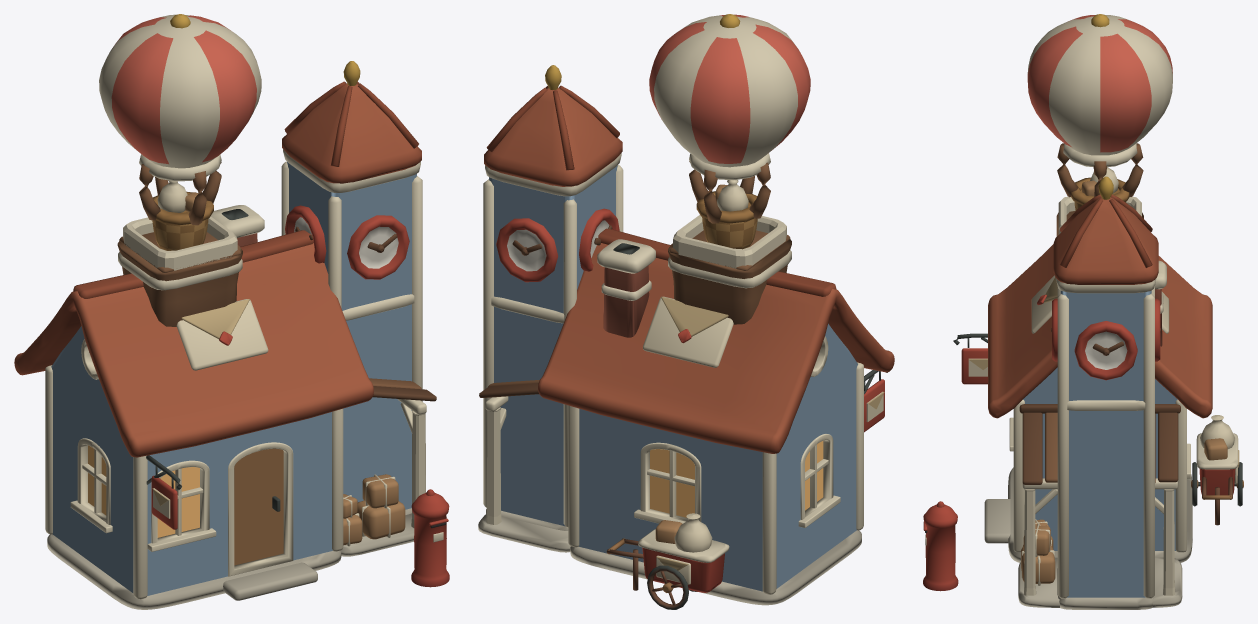
File: BLD_Post_Office_A_T3.fbx
3 renders of one model, left to right at view 1: azimuth 30°, elevation 25°; view 2: azimuth 150°, elevation 25°; view 3: azimuth 270°, elevation 25°, orthographic. The views are drawn at different scales.
Parts seen in each view (by area): view 1: BLD_Post_Office_A_T3_Body_LOD0, BLD_Post_Office_A_T3_Sign_LOD0; view 2: BLD_Post_Office_A_T3_Body_LOD0, BLD_Post_Office_A_T3_Sign_LOD0; view 3: BLD_Post_Office_A_T3_Body_LOD0, BLD_Post_Office_A_T3_Sign_LOD0.
Part boxes in pixels (left/top/right/bottom): BLD_Post_Office_A_T3_Body_LOD0: left=14, top=14, right=449, bottom=609; BLD_Post_Office_A_T3_Sign_LOD0: left=151, top=466, right=177, bottom=529; BLD_Post_Office_A_T3_Body_LOD0: left=478, top=14, right=894, bottom=609; BLD_Post_Office_A_T3_Sign_LOD0: left=864, top=371, right=884, bottom=432; BLD_Post_Office_A_T3_Body_LOD0: left=923, top=14, right=1243, bottom=609; BLD_Post_Office_A_T3_Sign_LOD0: left=961, top=338, right=987, bottom=384.
Size of what is drawn, in the model's own units: 4.83 by 7.47 by 4.38.
